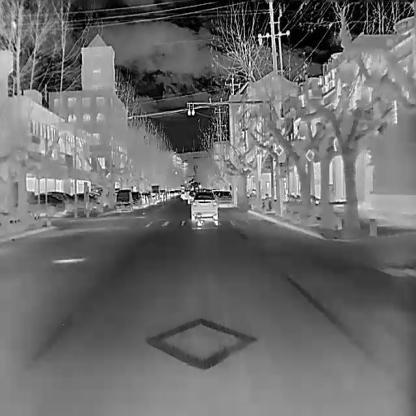car: (190, 189, 218, 221), (46, 190, 79, 215), (71, 193, 103, 216), (32, 194, 64, 216), (114, 188, 131, 212), (216, 190, 232, 207), (130, 189, 141, 209), (186, 189, 195, 203)
